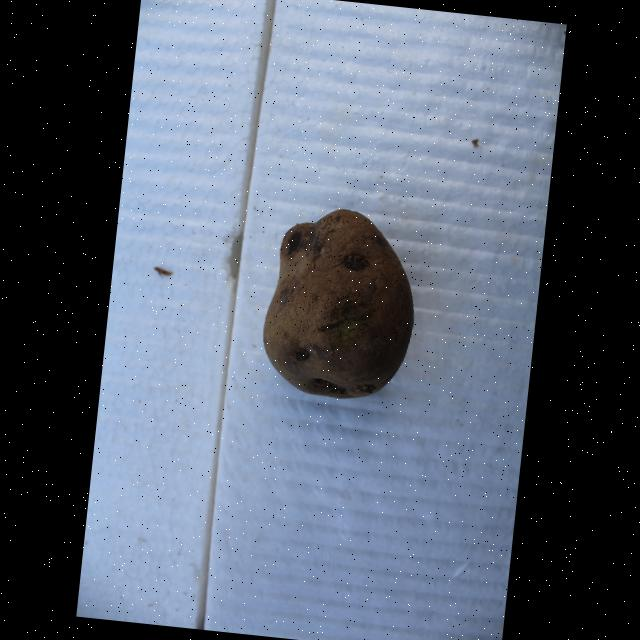Diseased-fungal potato: (252, 202, 426, 408)
